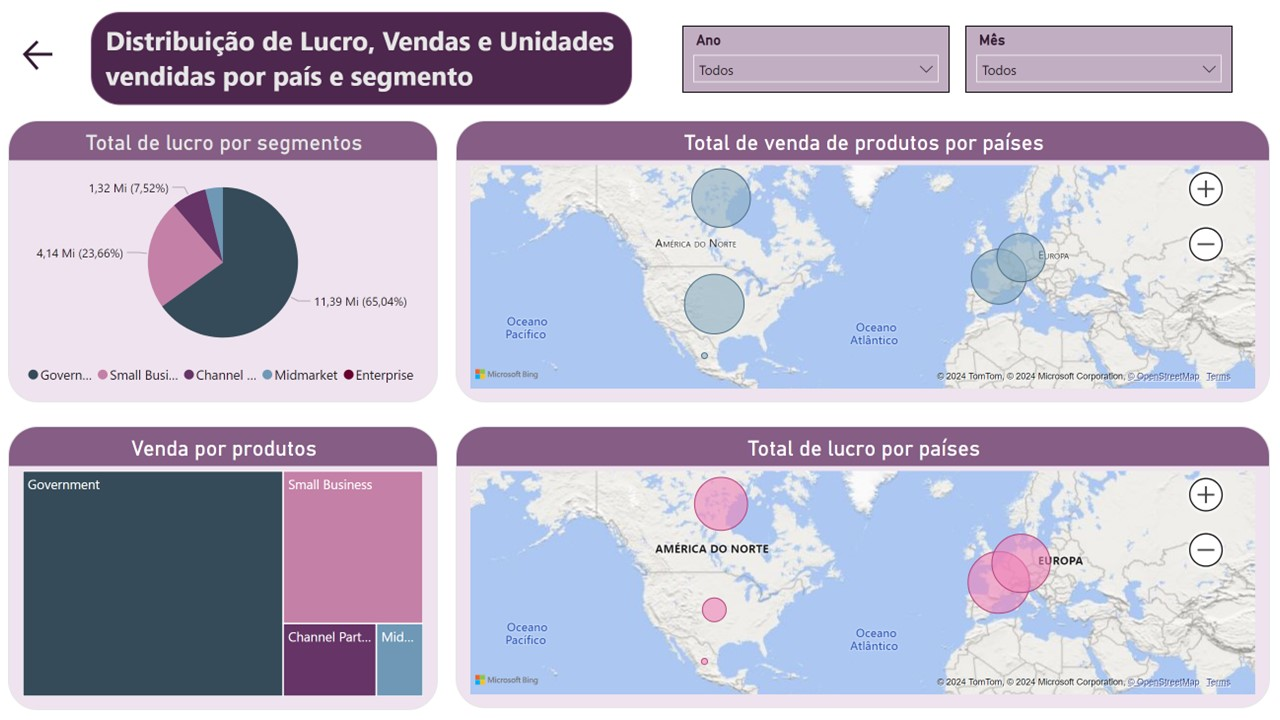

Layout of this report page (visuals, bound fields, positions):
{"tool":"powerbi","page":{"name":"Vendas por país e segmento","canvas":[1280,720],"ordinal":2},"visuals":[{"type":"slicer","fields":{"Values":["financials.Date.Variation.Hierarquia de datas.Ano"]},"box":[684,26,270.9,68],"z":0,"group":"g1"},{"type":"actionButton","box":[10.9,36.4,100,40],"z":0},{"type":"slicer","fields":{"Values":["financials.Date.Variation.Hierarquia de datas.Mês"]},"box":[971.1,26,270.9,68],"z":1000,"group":"g1"},{"type":"textbox","title":"Distribuição de Lucro, Vendas e Unidades vendidas por país e segmento","box":[83.6,11.8,549.1,94.5],"z":1000},{"type":"map","title":"Total de venda de produtos por países","fields":{"Category":["financials.Country"],"Size":["Sum(financials. Sales)"]},"box":[454,122,826,286],"z":2000},{"type":"map","title":"Total de lucro por países","fields":{"Category":["financials.Country"],"Size":["Sum(financials.Profit)"]},"box":[454,432,826,286],"z":3000},{"type":"pieChart","title":"Total de lucro por segmentos","fields":{"Y":["Sum(financials.Profit)"],"Category":["financials.Segment"]},"box":[0,122,436,286],"z":4000},{"type":"treemap","title":"Venda por produtos","fields":{"Group":["financials.Segment"],"Values":["Sum(financials.Profit)"]},"box":[0,432,436,288],"z":5000},{"type":"group","id":"g1","title":"Grupo 1","box":[684,26,558,68],"z":6000}]}

Visuals, with their boxes in screenshot pixels (x1, y1, x2, y2), scaled from the page's 1280x720 canvas onto the 1280x720 screenshot:
slicer - financials.Date.Variation.Hierarquia de datas.Ano: l=684, t=26, r=955, b=94
actionButton: l=11, t=36, r=111, b=76
slicer - financials.Date.Variation.Hierarquia de datas.Mês: l=971, t=26, r=1242, b=94
"Distribuição de Lucro, Vendas e Unidades vendidas por país e segmento" textbox: l=84, t=12, r=633, b=106
"Total de venda de produtos por países" map: l=454, t=122, r=1279, b=408
"Total de lucro por países" map: l=454, t=432, r=1279, b=718
"Total de lucro por segmentos" pieChart: l=0, t=122, r=436, b=408
"Venda por produtos" treemap: l=0, t=432, r=436, b=719
"Grupo 1" group: l=684, t=26, r=1242, b=94
